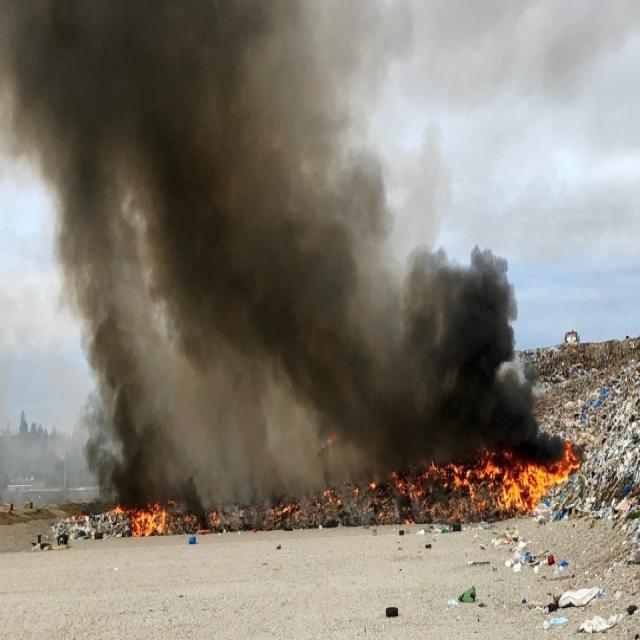Fire: (447, 448, 570, 503), (108, 498, 174, 542)
Smoke: (0, 0, 545, 474)
